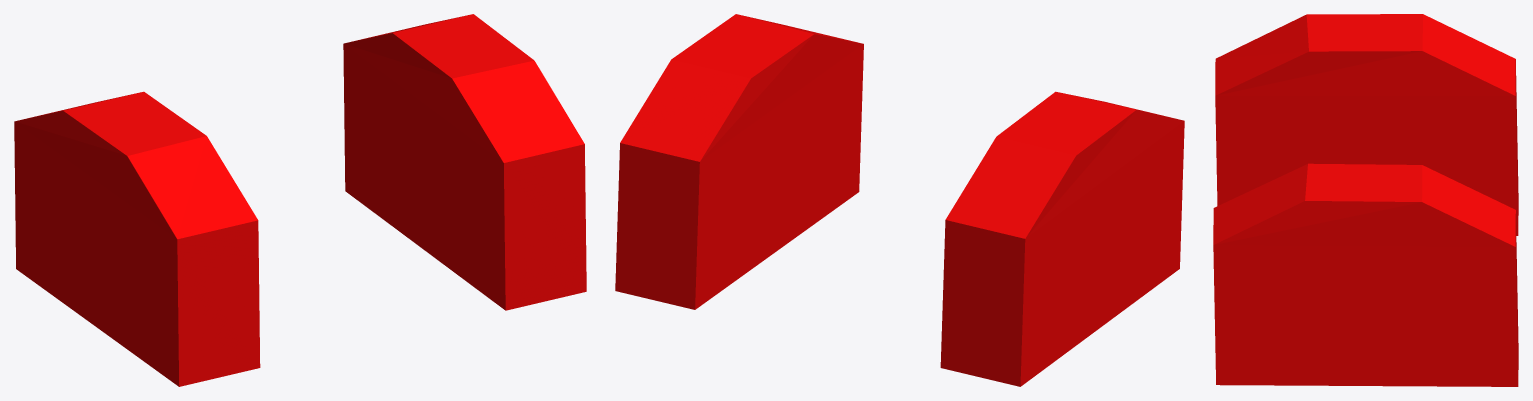
The model's file is editCannon2.obj.
3 views of the same model, side by side, from view 1: azimuth 30°, elevation 25°; view 2: azimuth 150°, elevation 25°; view 3: azimuth 270°, elevation 25° (orthographic). The views are drawn at different scales.
Parts seen in each view (by area): view 1: DrawCall_56; view 2: DrawCall_56; view 3: DrawCall_56.
Part boxes in pixels (x1,y1,x2,y2): DrawCall_56: (14, 14, 586, 386); DrawCall_56: (615, 14, 1184, 386); DrawCall_56: (1213, 14, 1518, 386).
Bounding box in the file's own units: 11.67 × 5.4 × 8.04.
